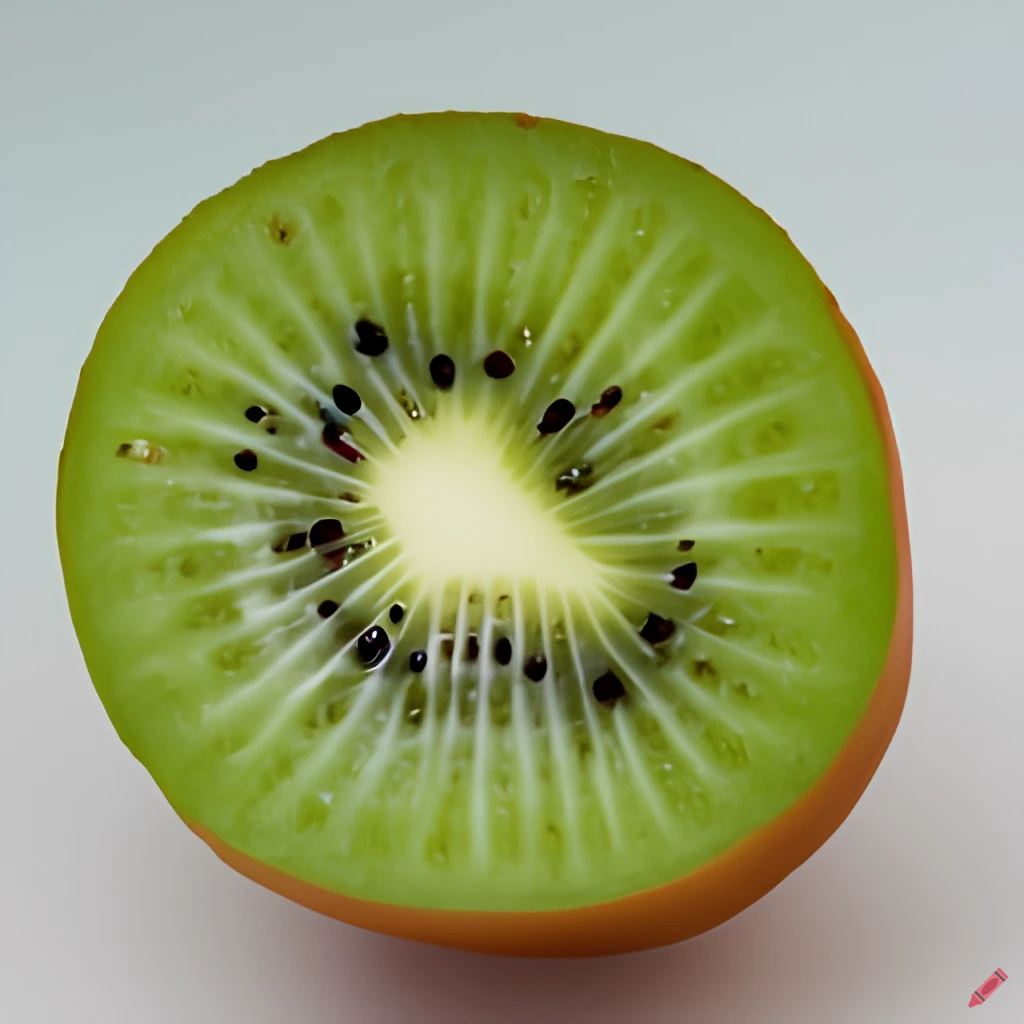Kiwi: (41, 109, 950, 976)
